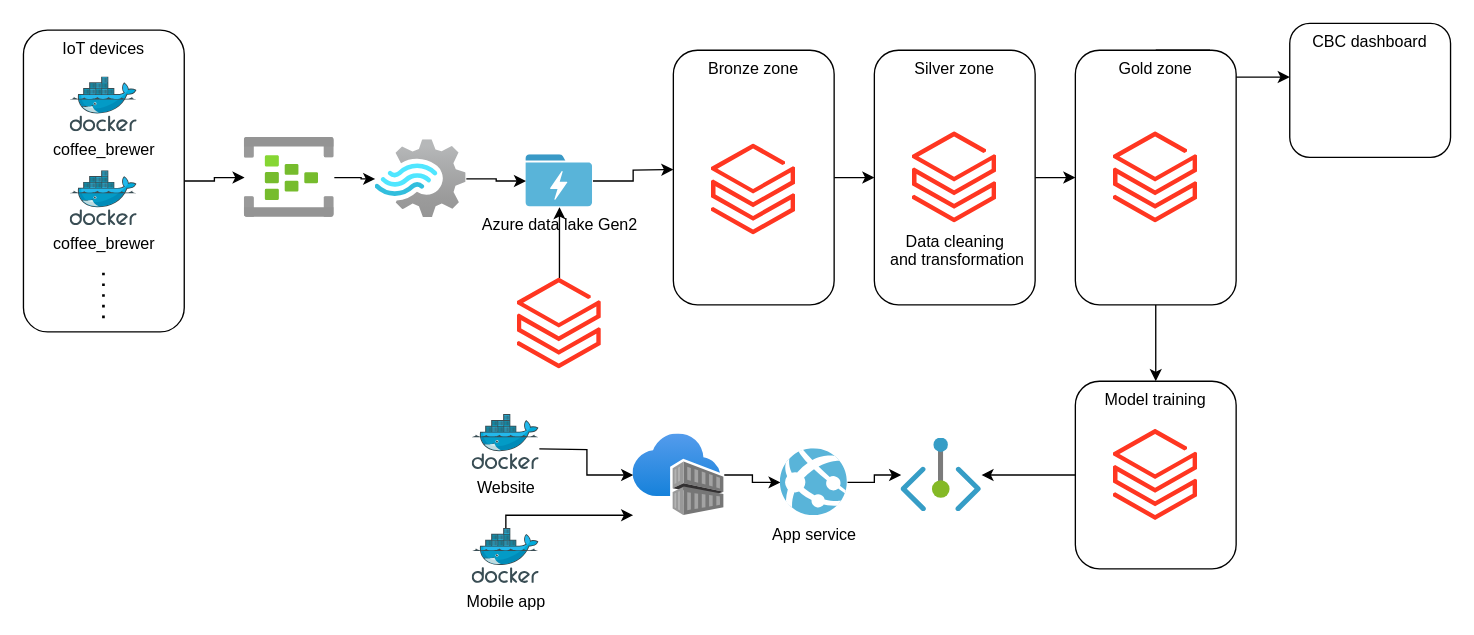
The diagram is 1474 pixels wide and 635 high, and some of its shapes have lost their labels. Each missing label, with the centre of its shape:
"Container registry" belongs at point (678, 474).
"Delta live table" belongs at point (753, 188).
"Event hub" belongs at point (289, 177).
"ML Dataset and views creation" belongs at point (1155, 176).
"Recommender" belongs at point (1155, 474).
"SQL warehouse" belongs at point (559, 322).
